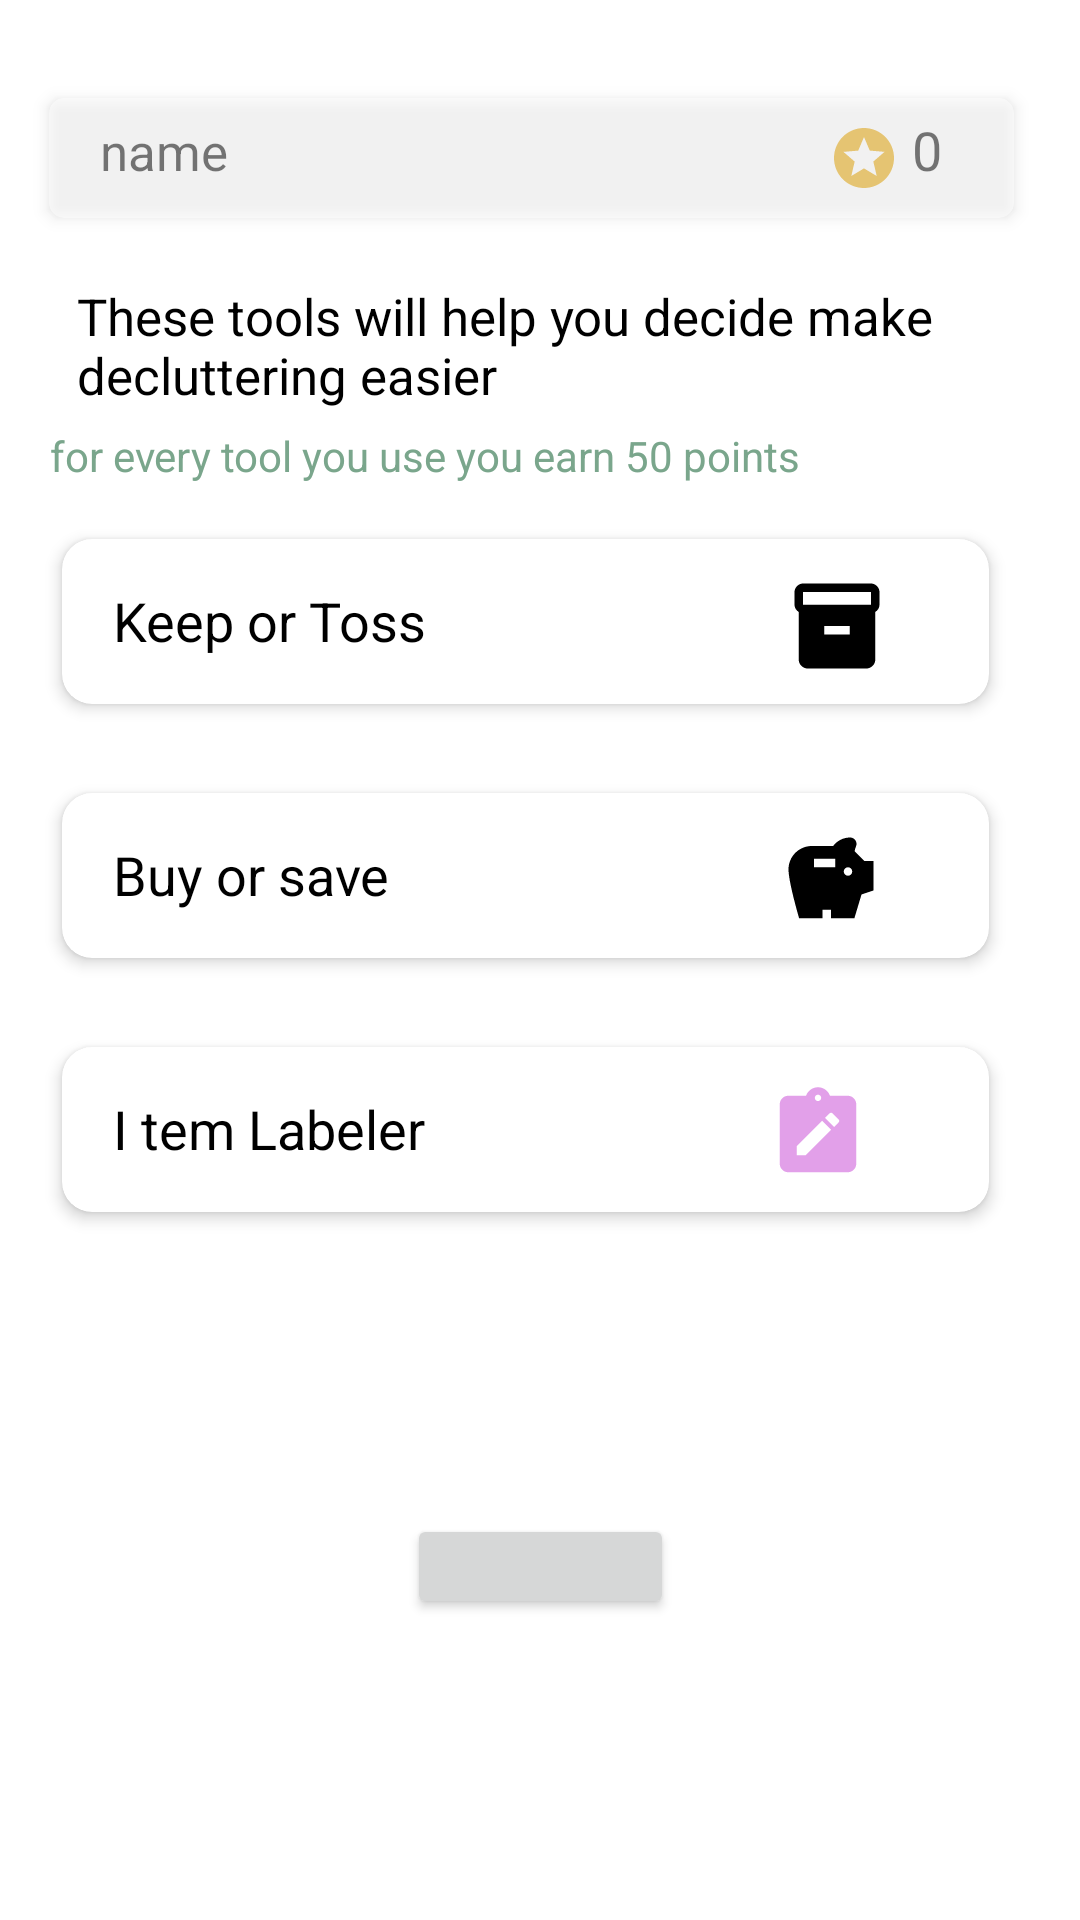

Where icons sit on this 1080x1920 app screen, as [x1, y1, x2, y2]:
point star: [834, 128, 894, 188]
save: [788, 837, 874, 919]
